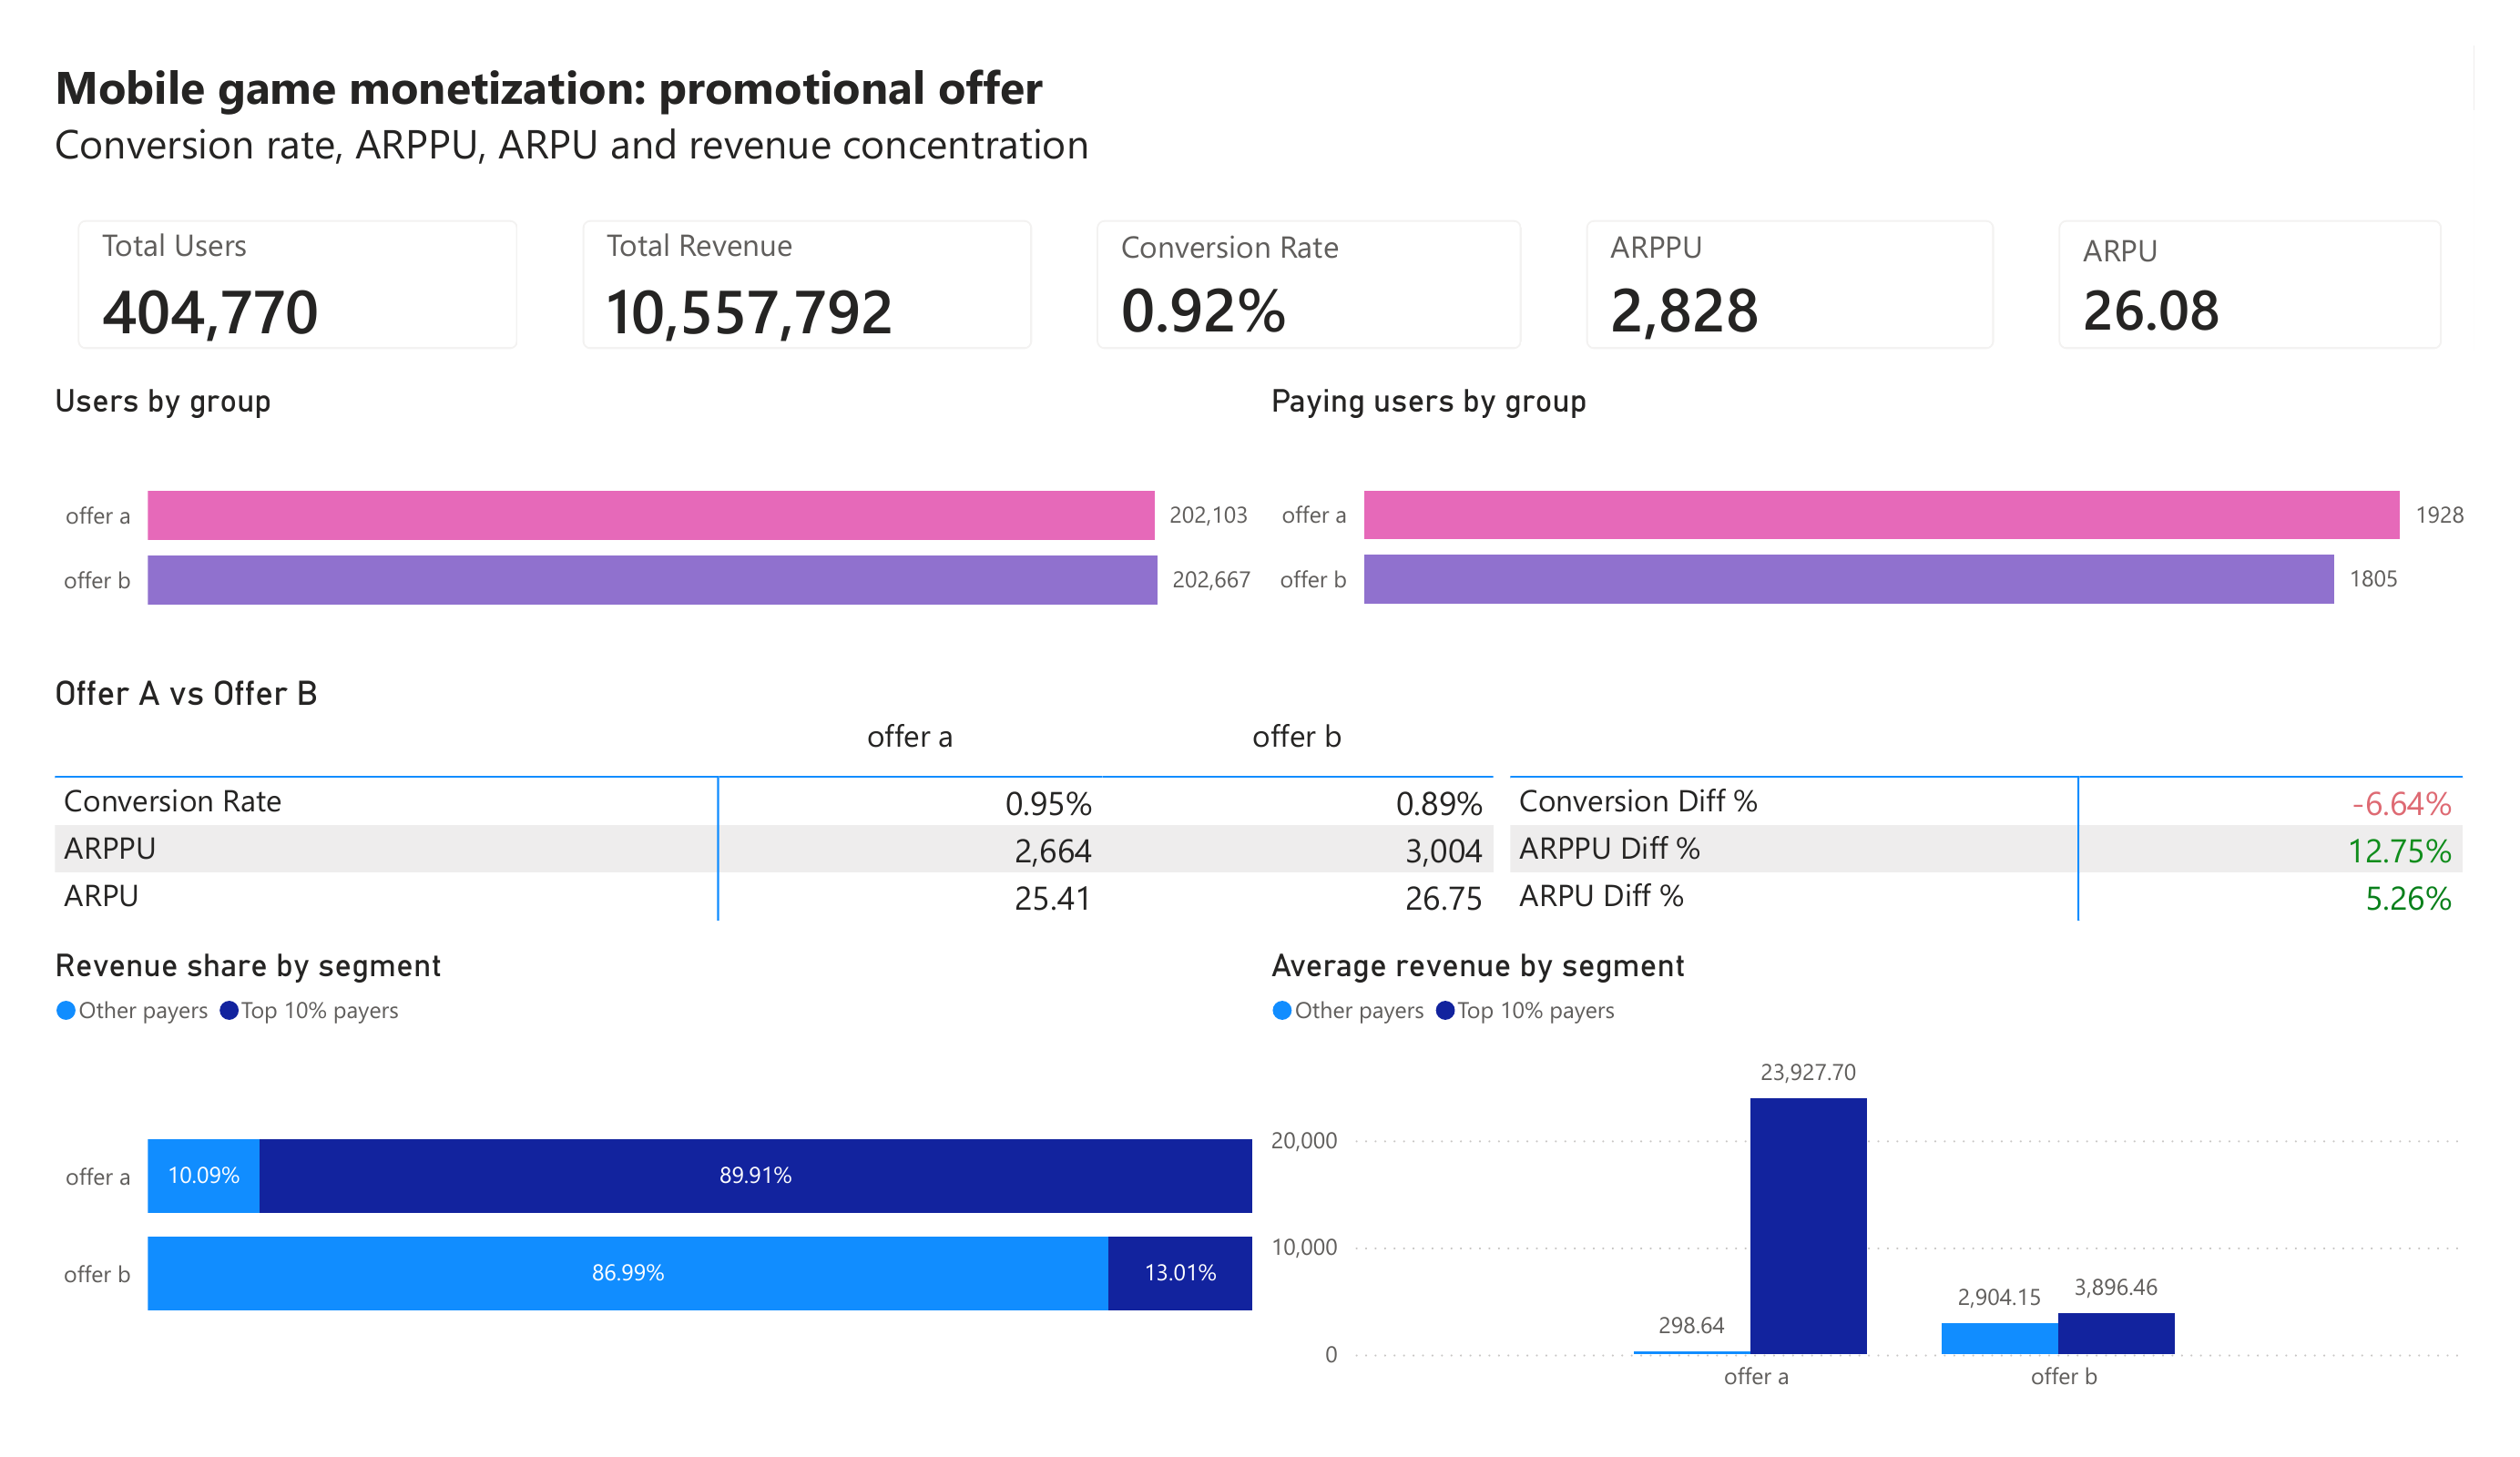

The page's visual inventory and layout, read from the dashboard file:
{"tool":"powerbi","page":{"name":"Trang 1","canvas":[1280,720],"ordinal":0},"visuals":[{"type":"textbox","box":[0,0,1279.7,75],"z":0},{"type":"cardVisual","fields":{"Data":["1Measures.Total Users"]},"box":[0,74.9,266.4,102.2],"z":1000},{"type":"cardVisual","fields":{"Data":["1Measures.Total Revenue"]},"box":[266.4,74.9,270.7,102.2],"z":2000},{"type":"barChart","title":"Users by group","fields":{"Category":["player_segments.testgroup"],"Y":["1Measures.Total Users"]},"box":[0,177.1,640.6,154.7],"z":3000},{"type":"barChart","title":"Paying users by group","fields":{"Category":["player_segments.testgroup"],"Y":["1Measures.Paying Users"]},"box":[640.6,176.6,639.1,154.7],"z":4000},{"type":"pivotTable","title":"Offer A vs Offer B","fields":{"Columns":["player_segments.testgroup"],"Values":["1Measures.Conversion Rate","1Measures.ARPPU","1Measures.ARPU"]},"box":[0,331.2,768.8,159.4],"z":5000},{"type":"hundredPercentStackedBarChart","title":"Revenue share by segment","fields":{"Category":["player_segments.testgroup"],"Y":["3Measures.Revenue Share"],"Series":["player_segments.segment"]},"box":[0,475,640.6,245.3],"z":6000},{"type":"cardVisual","fields":{"Data":["1Measures.Conversion Rate"]},"box":[537.1,74.9,257.8,102.2],"z":8000},{"type":"cardVisual","fields":{"Data":["1Measures.ARPPU"]},"box":[794.9,74.9,249.1,102.2],"z":9000},{"type":"cardVisual","fields":{"Data":["1Measures.ARPU"]},"box":[1044,74.9,236.2,102.2],"z":10000},{"type":"pivotTable","fields":{"Values":["3Measures.Conversion Diff %","3Measures.ARPPU Diff %","3Measures.ARPU Diff %"]},"box":[767.2,346.9,512.5,143.8],"z":11000},{"type":"clusteredColumnChart","title":"Average revenue by segment","fields":{"Category":["player_segments.testgroup"],"Y":["Avg(player_segments.revenue)"],"Series":["player_segments.segment"]},"box":[640.8,475.2,639.4,244.8],"z":11002}]}

Visuals, with their boxes on the page's 1280x720 design canvas (x1, y1, x2, y2). These are canvas units, not pixel positions in the 2520x1457 screenshot, which may show the page scaled, cropped or inside an application window:
textbox: l=0, t=0, r=1280, b=75
cardVisual - 1Measures.Total Users: l=0, t=75, r=266, b=177
cardVisual - 1Measures.Total Revenue: l=266, t=75, r=537, b=177
"Users by group" barChart: l=0, t=177, r=641, b=332
"Paying users by group" barChart: l=641, t=177, r=1280, b=331
"Offer A vs Offer B" pivotTable: l=0, t=331, r=769, b=491
"Revenue share by segment" hundredPercentStackedBarChart: l=0, t=475, r=641, b=720
cardVisual - 1Measures.Conversion Rate: l=537, t=75, r=795, b=177
cardVisual - 1Measures.ARPPU: l=795, t=75, r=1044, b=177
cardVisual - 1Measures.ARPU: l=1044, t=75, r=1280, b=177
pivotTable - 3Measures.Conversion Diff % x 3Measures.ARPPU Diff %: l=767, t=347, r=1280, b=491
"Average revenue by segment" clusteredColumnChart: l=641, t=475, r=1280, b=720
